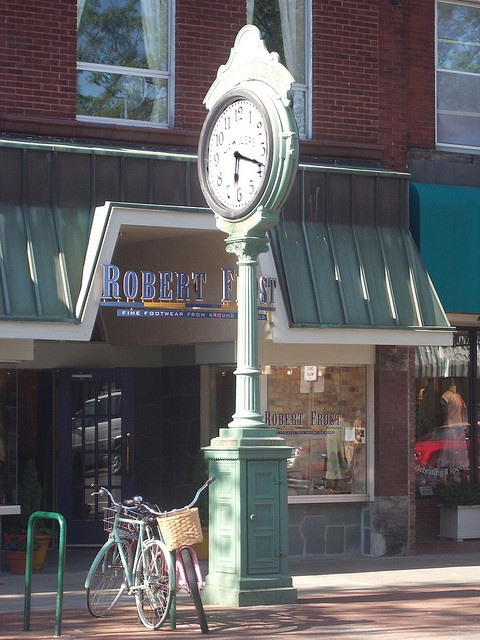non-vehicle: (84, 480, 177, 631), (145, 473, 217, 635)
